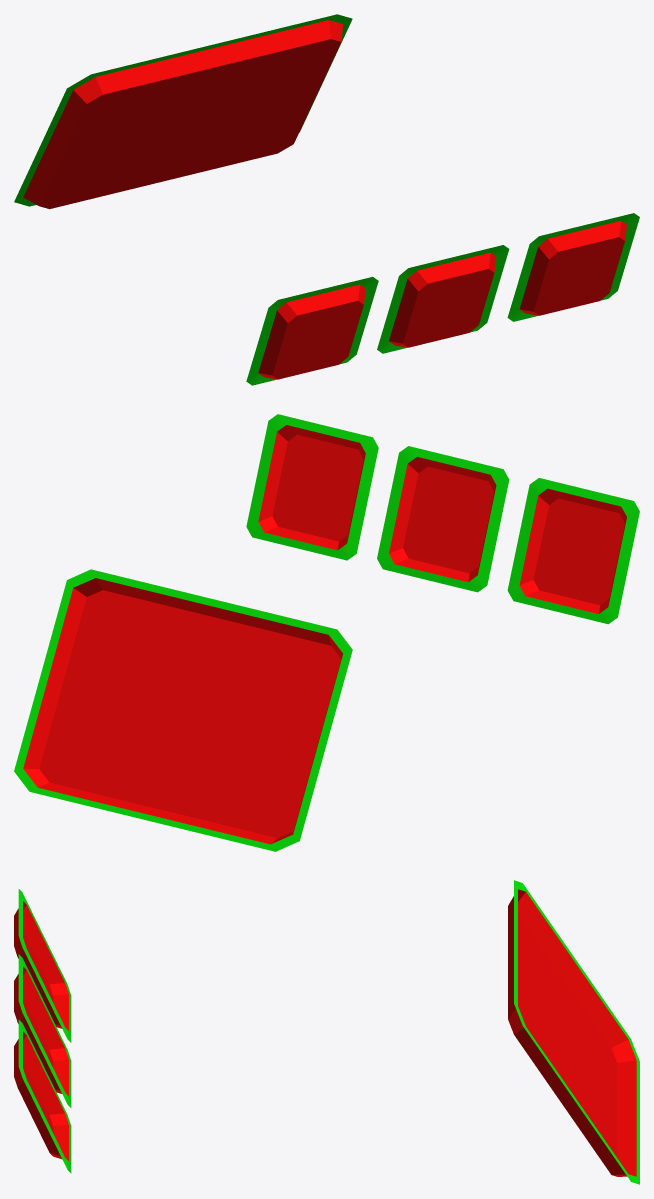
File: FPV_GenericStarship.fbx
The picture shows the model from 3 angles, top to bottom: view 1: azimuth 30°, elevation 25°; view 2: azimuth 150°, elevation 25°; view 3: azimuth 270°, elevation 25°; orthographic projection. The views are drawn at different scales.
Parts seen in each view (by area): view 1: MatchPanel, BoostPanels; view 2: MatchPanel, BoostPanels; view 3: MatchPanel, BoostPanels.
Part boxes in pixels (x1,y1,x2,y2): MatchPanel: (14,14,352,209); BoostPanels: (246,213,639,385); MatchPanel: (14,569,352,851); BoostPanels: (246,414,639,624); MatchPanel: (508,880,639,1184); BoostPanels: (14,889,71,1173).
Size of the model in its own units: 0.8676 by 0.3957 by 1.24.
